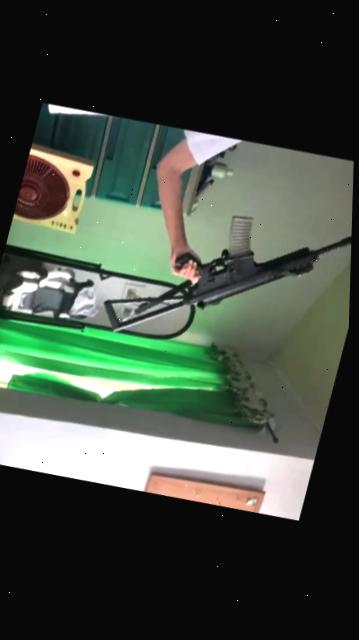rifle: (95, 180, 355, 382)
